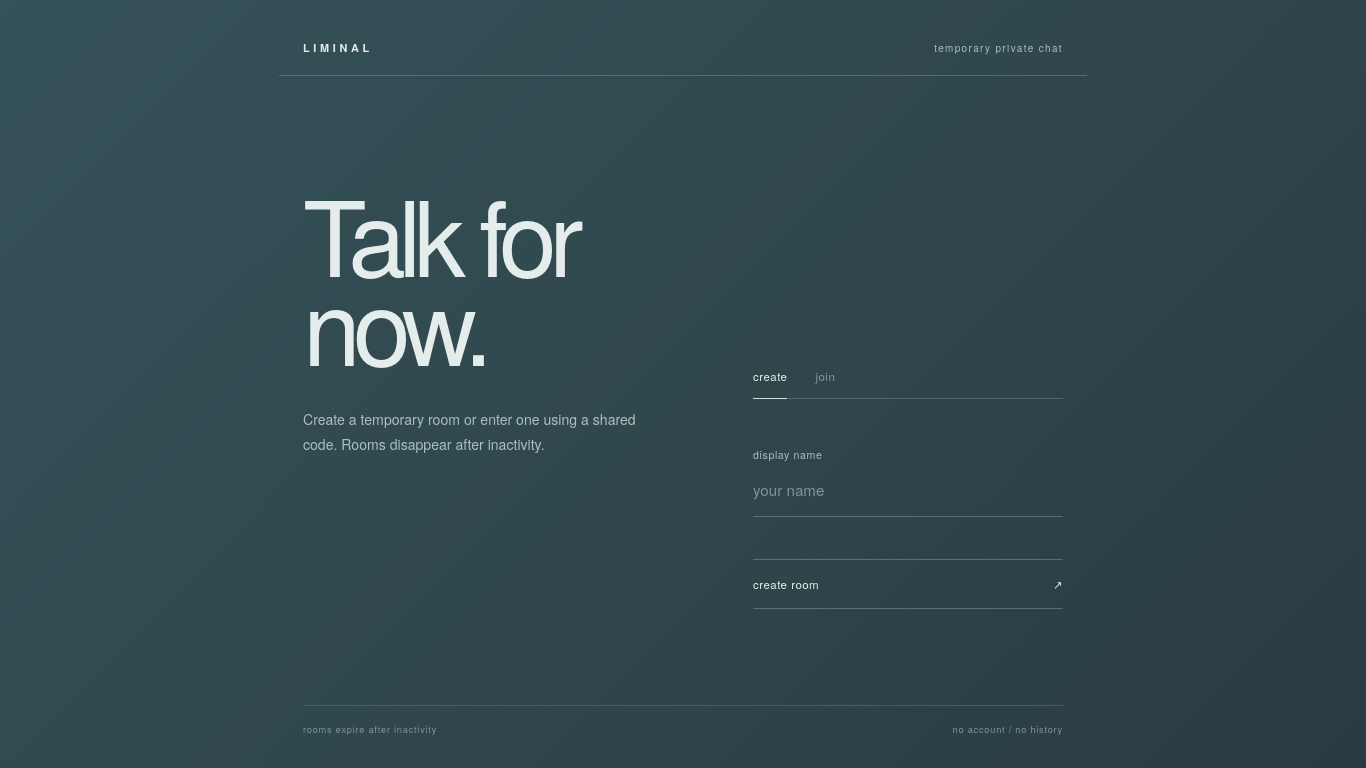
HomeView › reports invalid room data returned by the server
Type "Alice" into the field with id "display-name".
click(908, 495); type("Alice")  # box [753,473,1063,517]
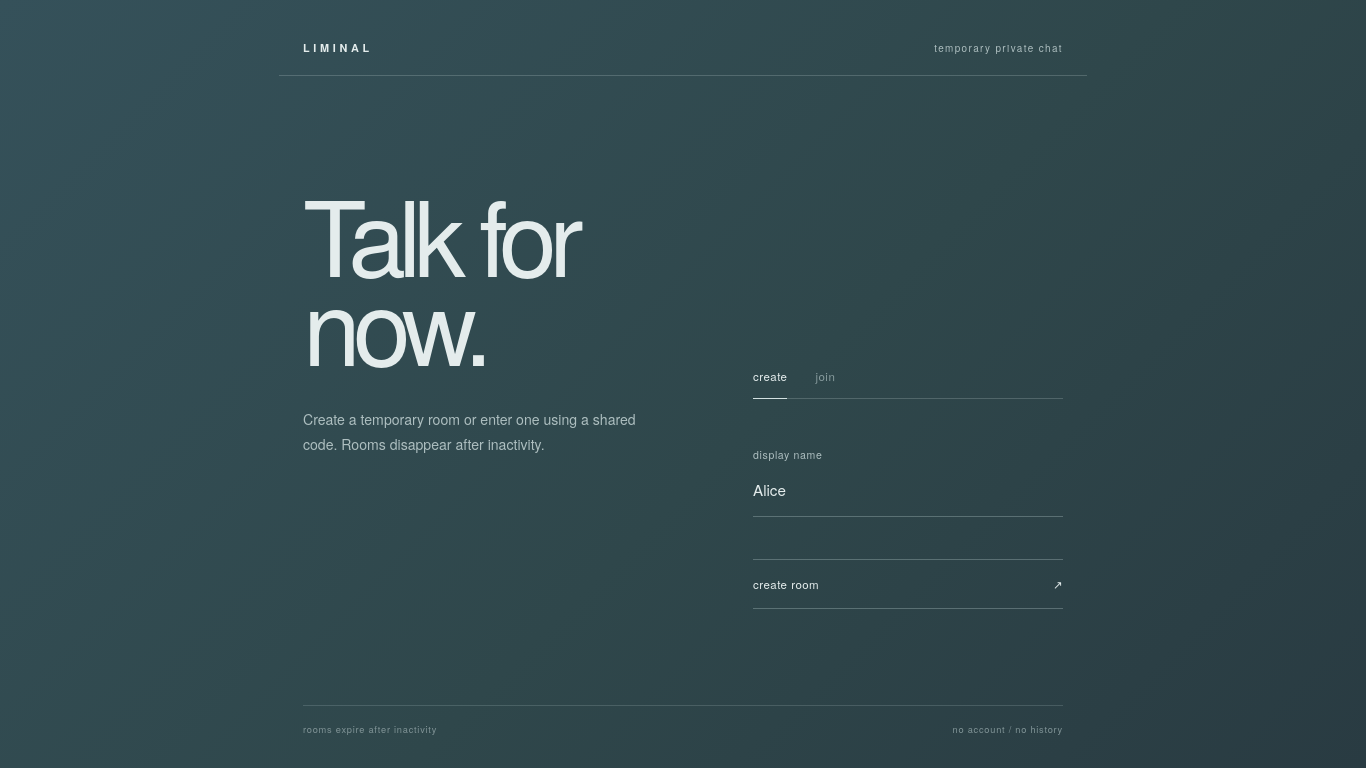
Submit the form, box [753,447,1063,609]
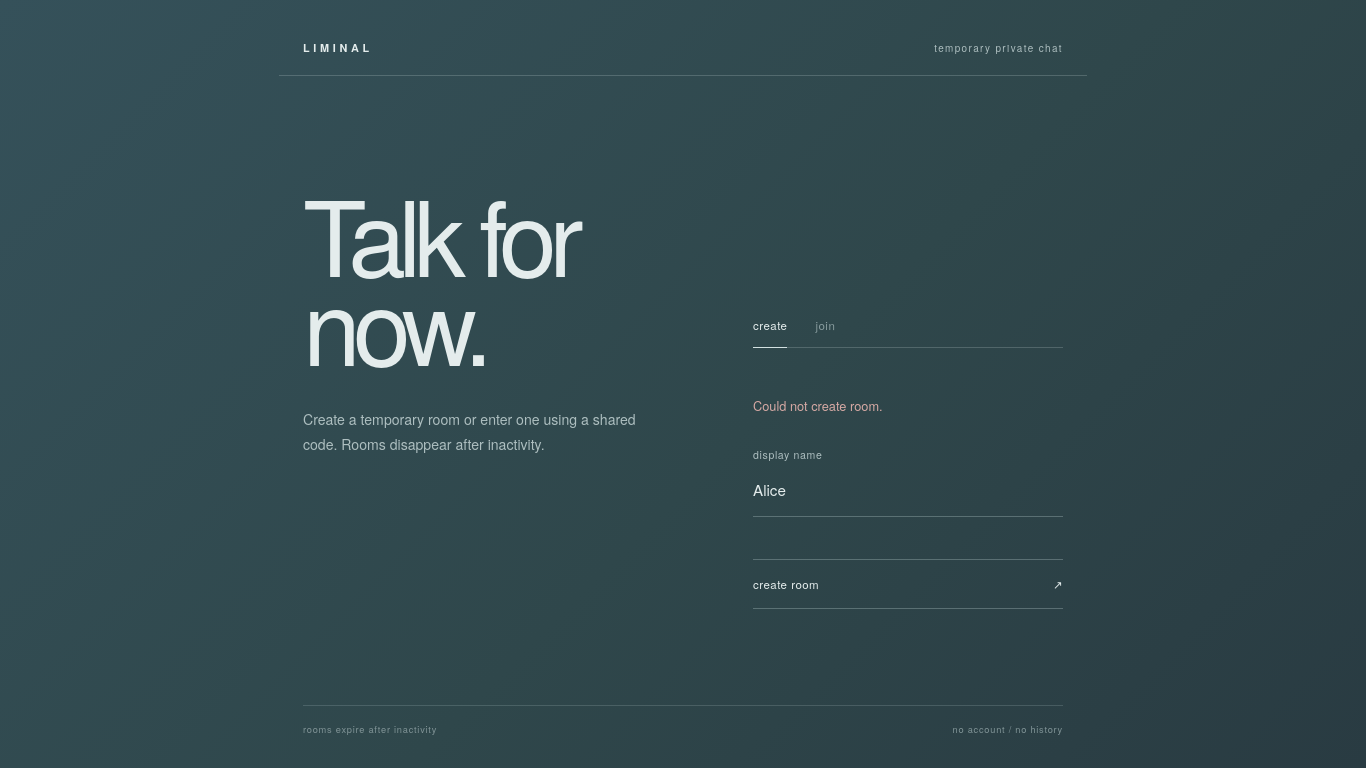
Expected: the message "Could not create room." is shown, [753,396,883,415]
